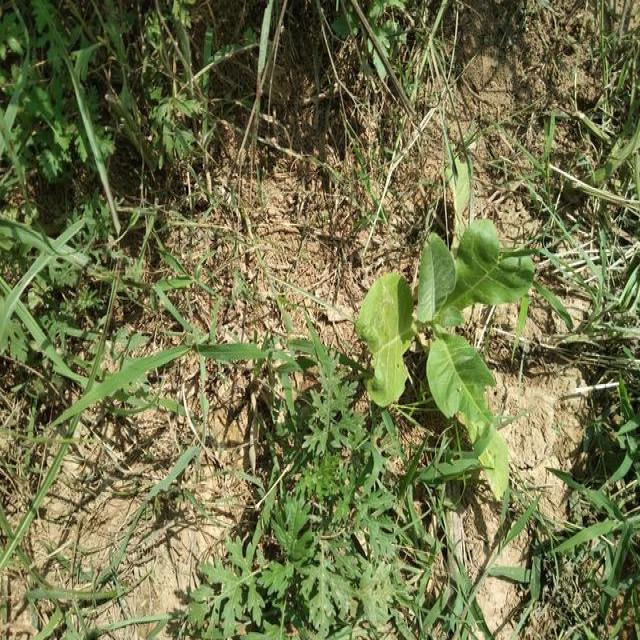crop: (349, 132, 525, 446)
